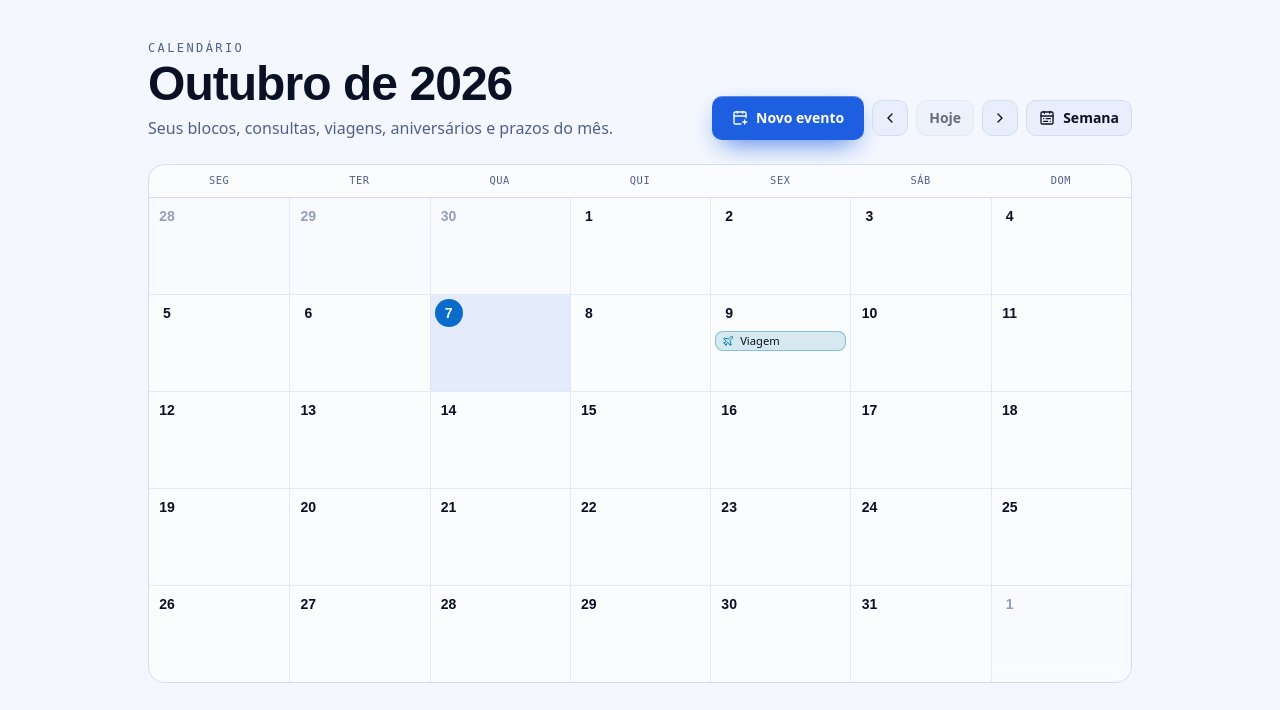
Test: CalendarPage (visão mensal, RF34) › escolher outro dia troca a lista; dia vazio explica
Click the button named "sexta-feira, 9 de outubro de 2026": (729, 313) [715, 299, 743, 327]
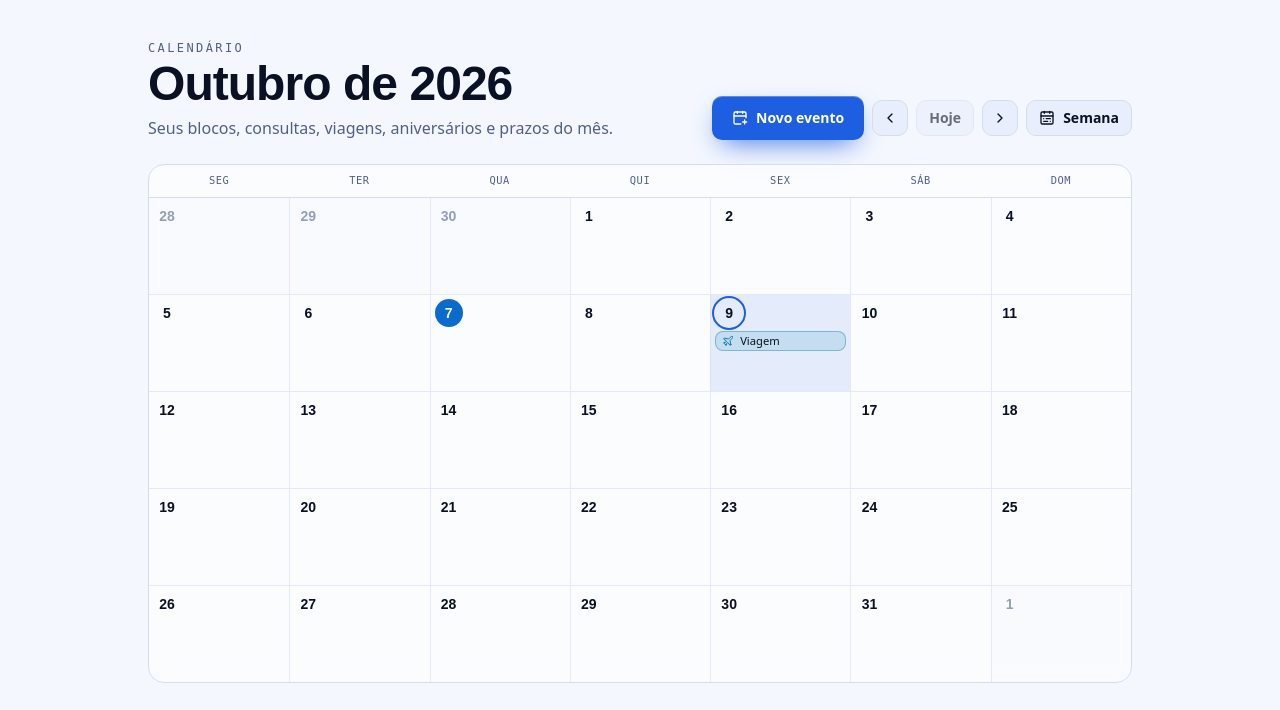
Click the button named "sábado, 10 de outubro de 2026": (869, 313) [855, 299, 883, 327]
(page scrolled)
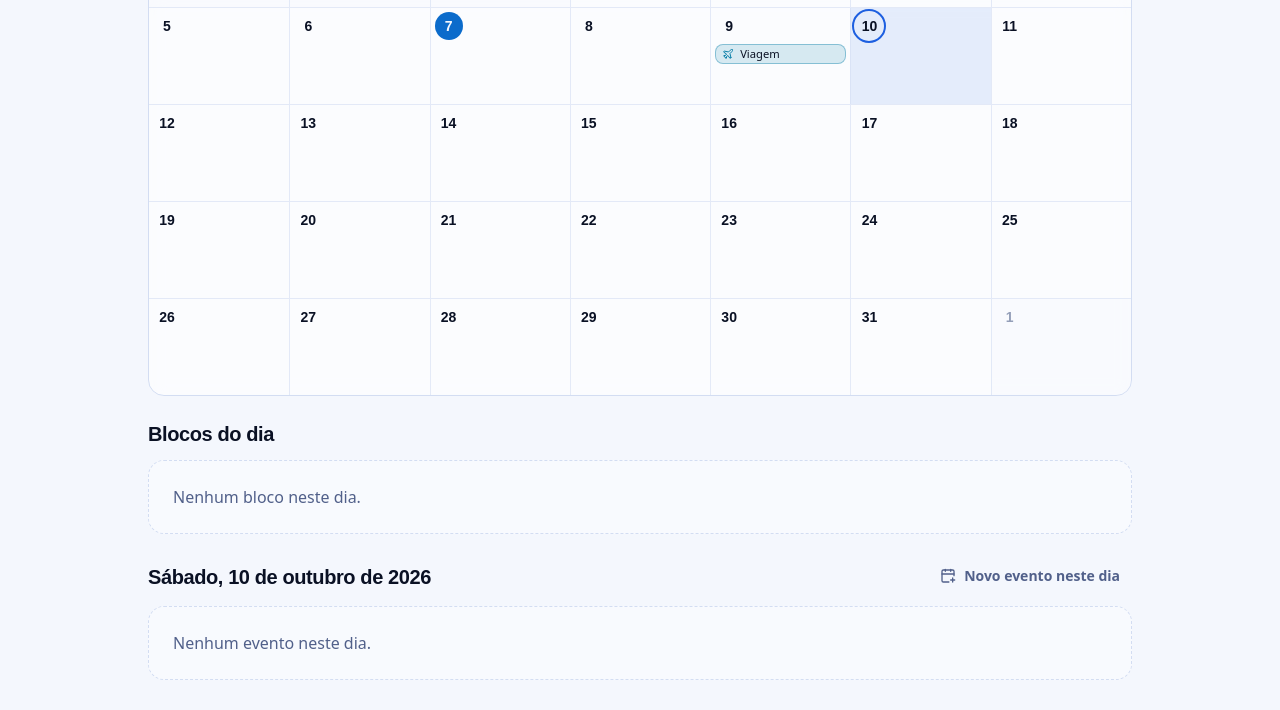
Expected: the text "Nenhum evento neste dia." is shown, [148, 606, 1132, 680]
